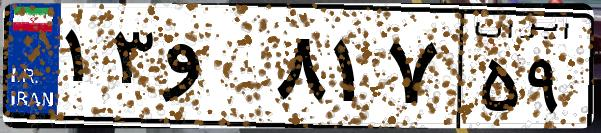1: (330, 28, 385, 110), (57, 26, 110, 100)
3: (110, 28, 158, 98)
5: (475, 38, 525, 113)
7: (385, 28, 445, 110)
8: (270, 28, 330, 110)
9: (525, 38, 570, 115)
و: (158, 20, 270, 120)
